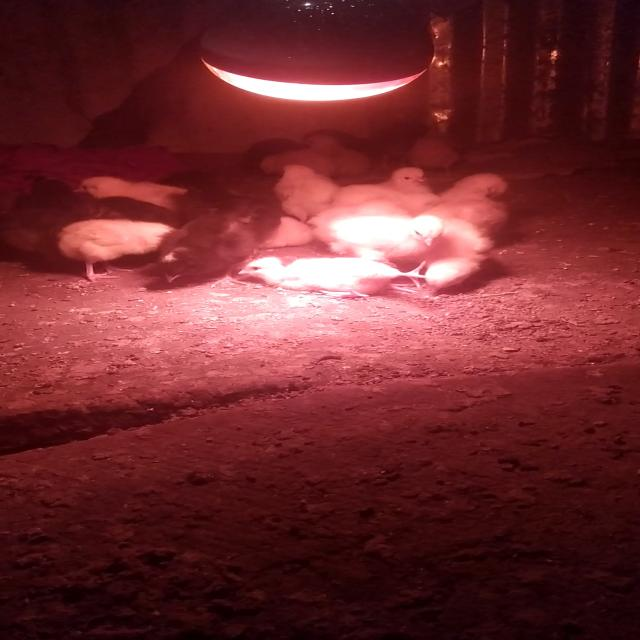chick: (239, 256, 429, 301), (59, 216, 181, 284), (166, 209, 267, 284), (306, 206, 407, 272), (411, 216, 496, 291), (342, 165, 439, 223), (441, 171, 517, 231), (272, 160, 340, 226), (4, 210, 100, 256), (71, 176, 198, 210), (261, 136, 367, 172), (257, 215, 322, 248), (408, 137, 460, 174)
objects: (192, 1, 437, 102)
